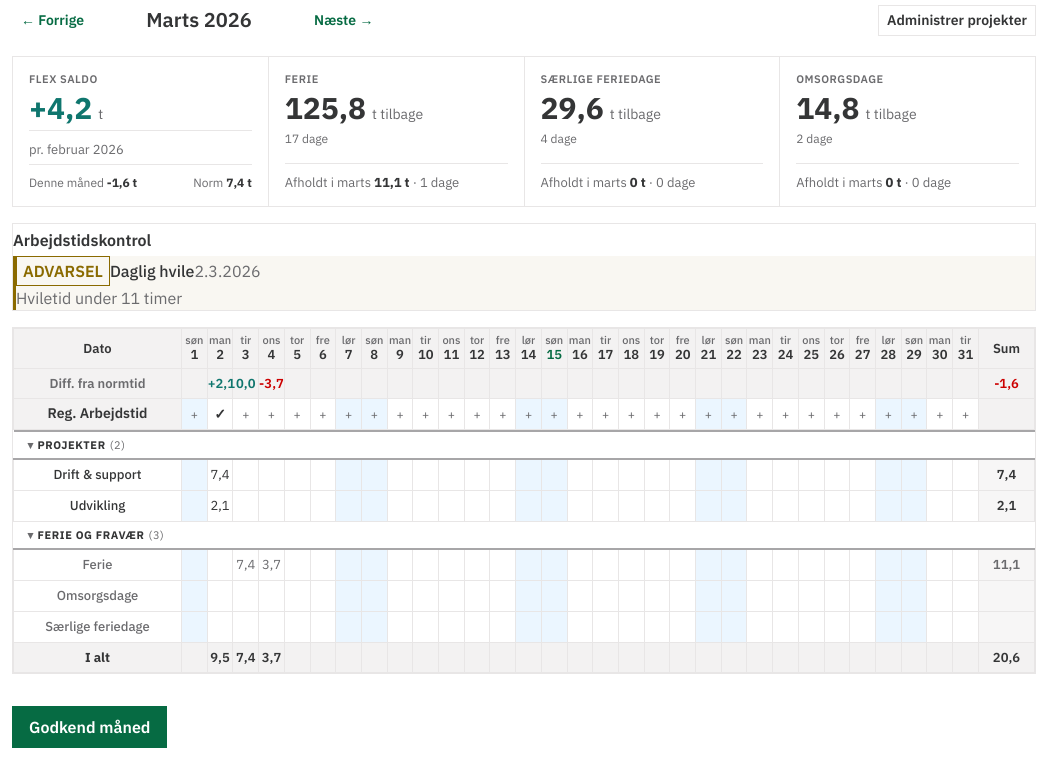
Test: SkemaPage — page chrome (handoff §1) › navigates months and refetches (Næste → April 2026)
Expected: the text "Drift & support" is shown, [14,459,182,490]
Expected: the cell does not show ""
Click the button "Næste →" at point(344, 20), box [305,4,382,36]
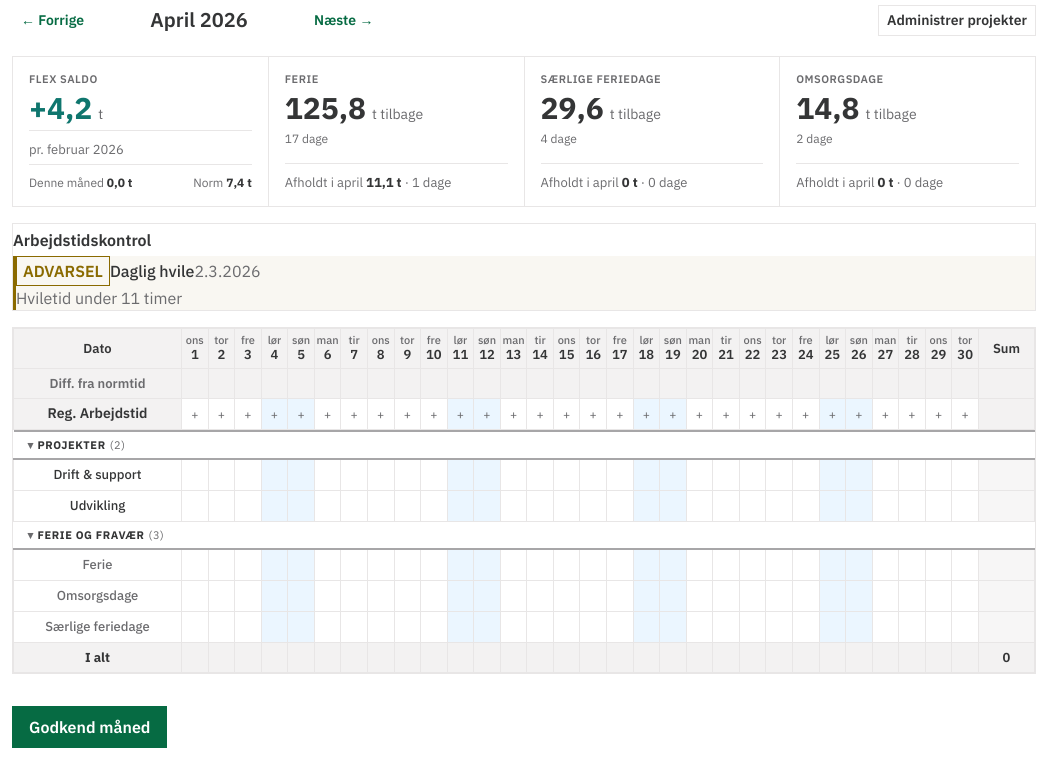
Expected: the heading "April 2026" is shown, [150,6,248,33]
